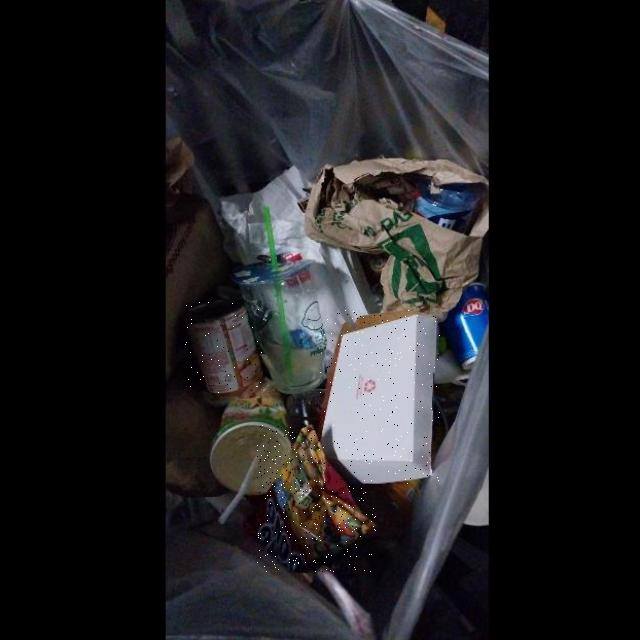metal: (184, 301, 262, 395)
paper: (320, 310, 440, 486)
wrapper: (257, 425, 376, 572)
